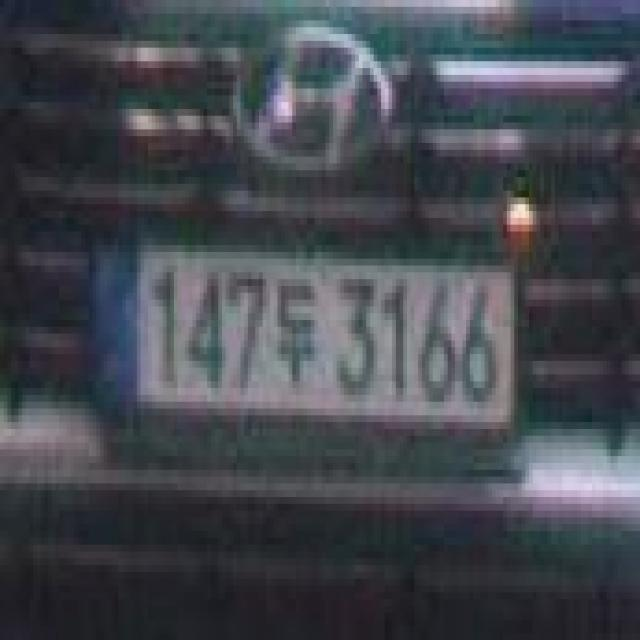illegal_plate: (80, 215, 528, 463)
